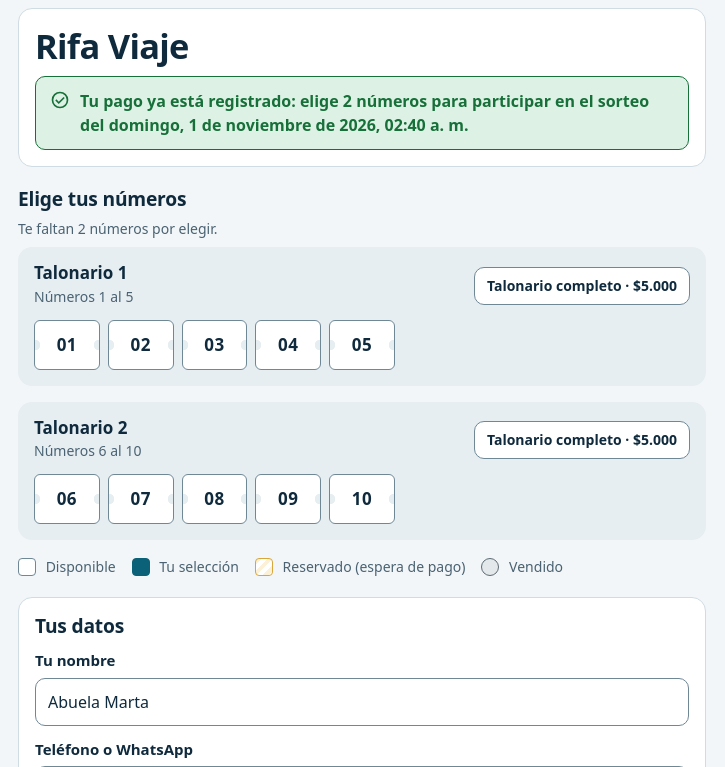
Test: enlace de pago previo › elige exactamente su cupo y la orden queda pagada
Expected: the text "Tu pago ya está registrado: elige 2 números" is shown, 35,76 -> 689,150
Expected: the field labelled "Tu nombre" holds "Abuela Marta", 35,678 -> 689,726
Click the button "03": (214, 345) 182,320 -> 247,370
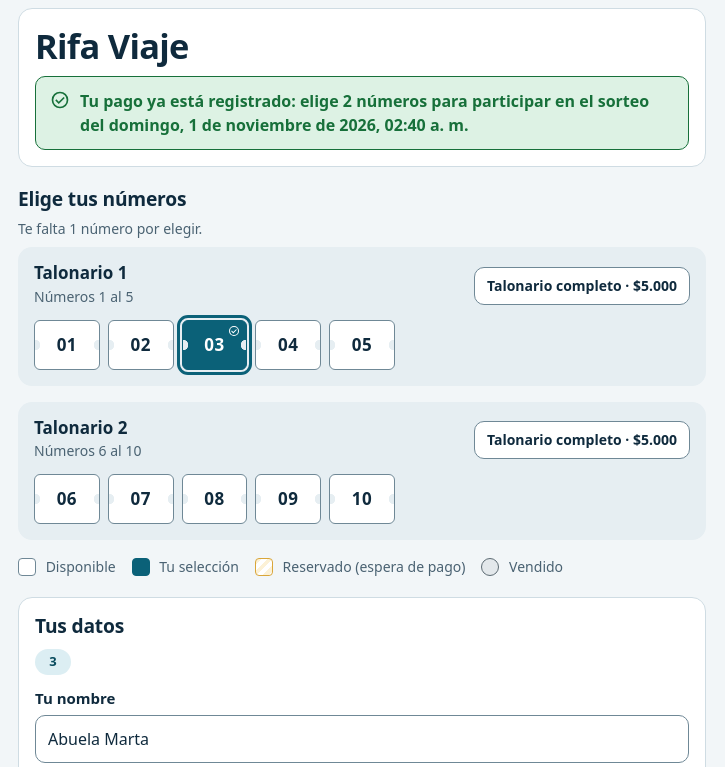
Click the button named "Número 4, disponible": (288, 345) 255,320 -> 321,370
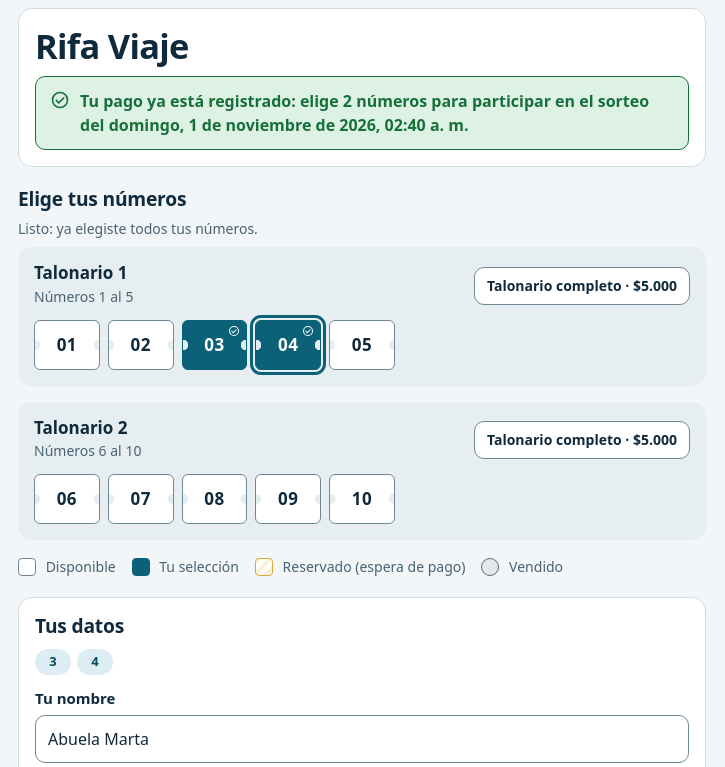
Click the button named "Número 5, disponible": (362, 345) 329,320 -> 395,370
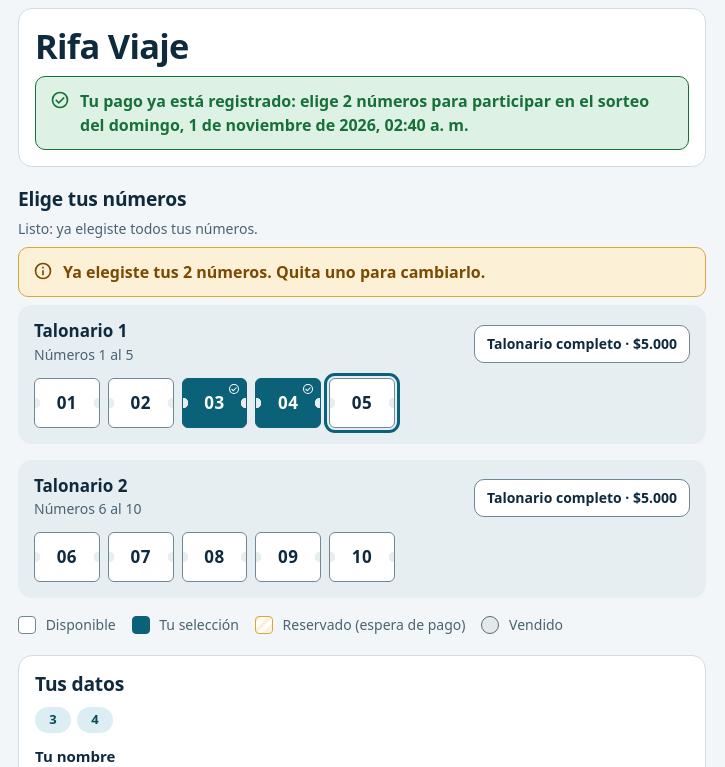
Result: the text "Ya elegiste tus 2 números. Quita uno para cambiarlo." is shown at 18,247 -> 706,297
Click the 2nd button "Talonario completo · $5.000": (582, 498) 474,479 -> 690,517
(page scrolled)
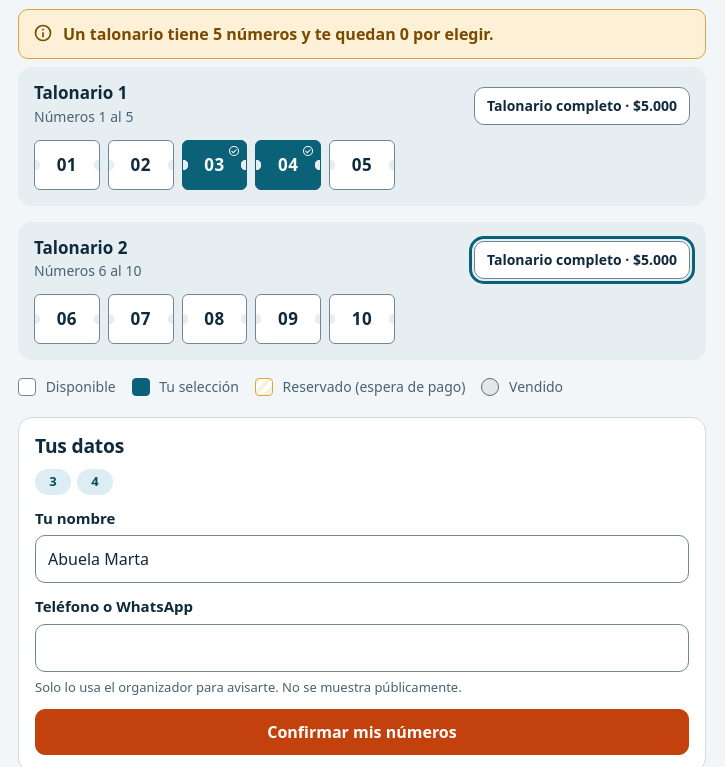
Result: the text "Un talonario tiene 5 números y te quedan 0 por elegir." is shown at 18,9 -> 706,59
In the field labelled "Teléfono o WhatsApp": (362, 648) 35,624 -> 689,672, type "912345678"
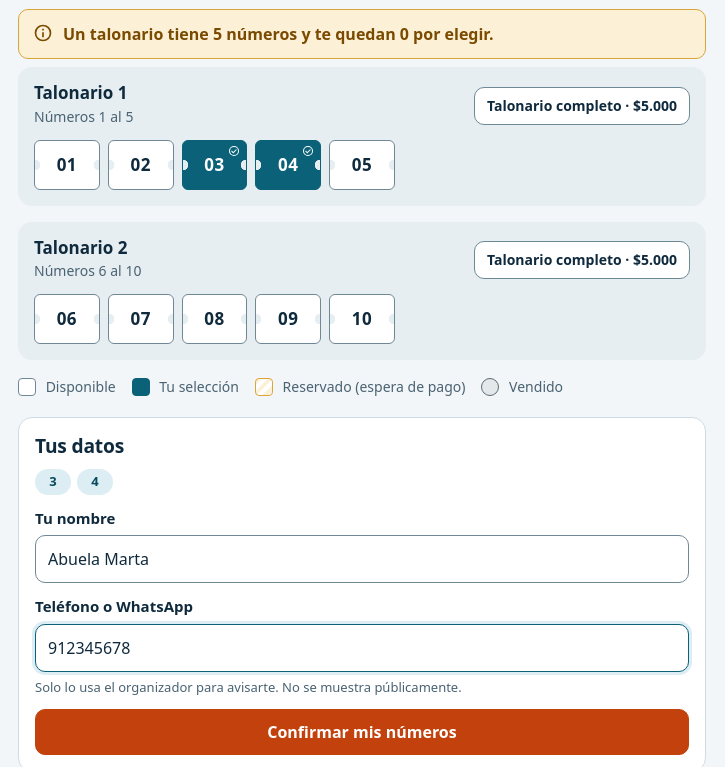
Click the button "Confirmar mis números": (362, 732) 35,709 -> 689,755
(page scrolled)
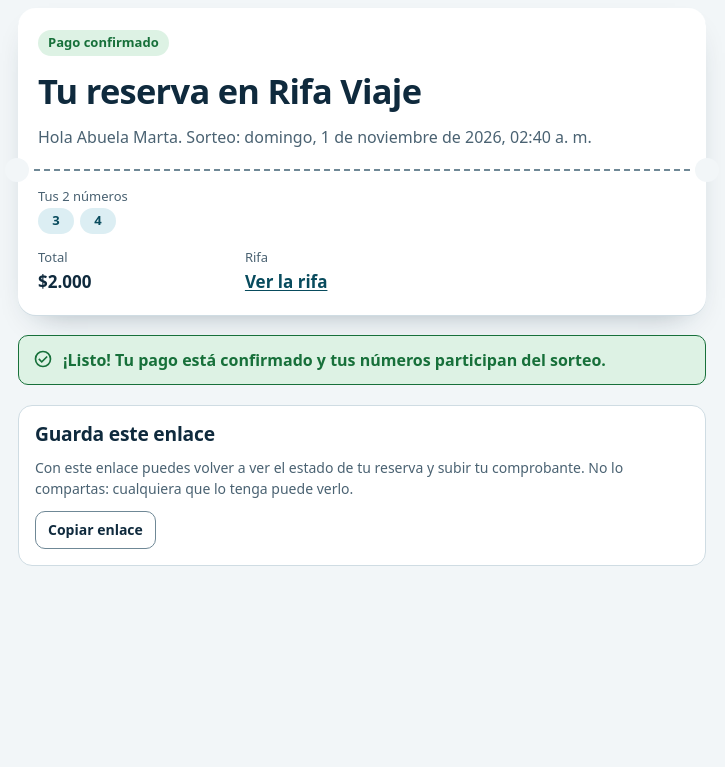
Result: the text "Pago confirmado" is shown at 38,30 -> 169,56
